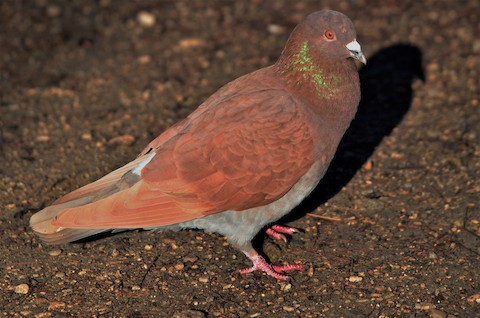pigeon: (30, 5, 370, 281)
